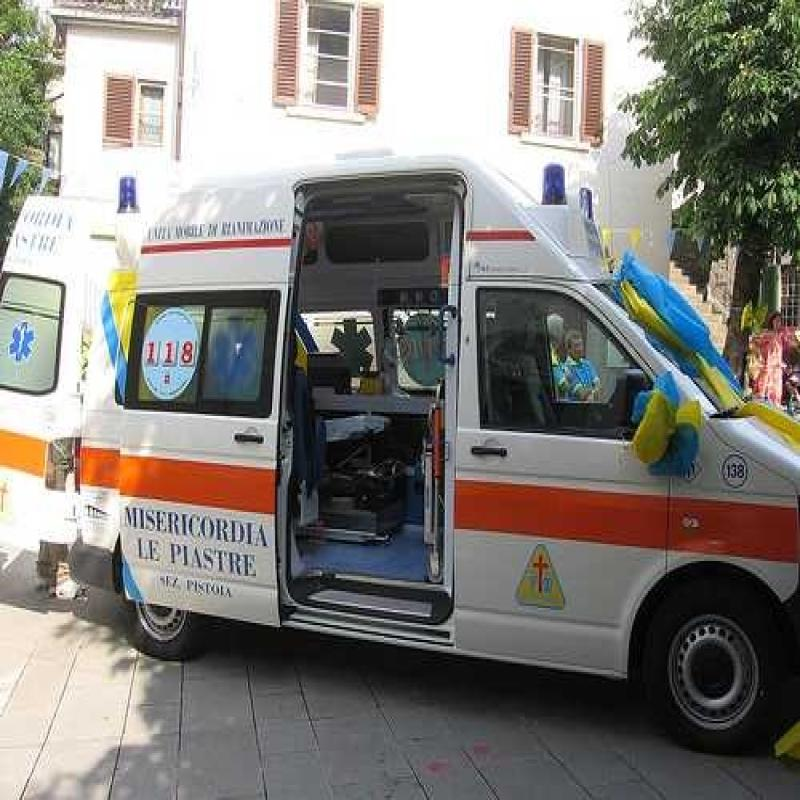AmbulanceSiren: (526, 157, 580, 241), (98, 160, 151, 234)
